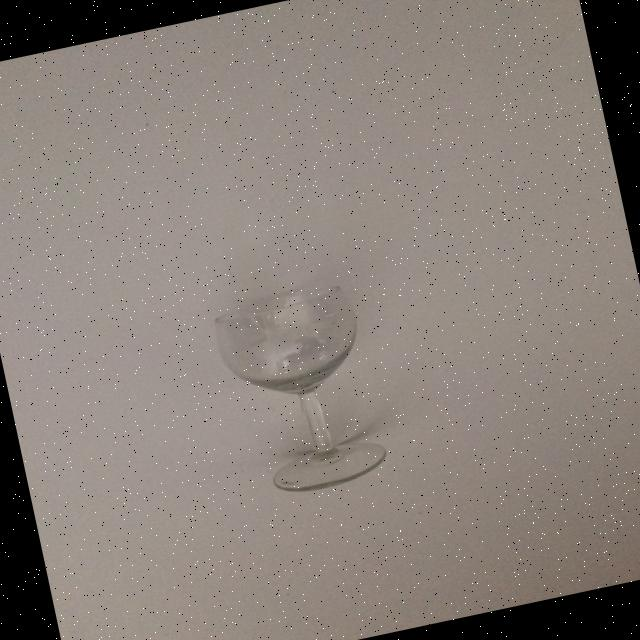glass: (208, 277, 392, 503)
